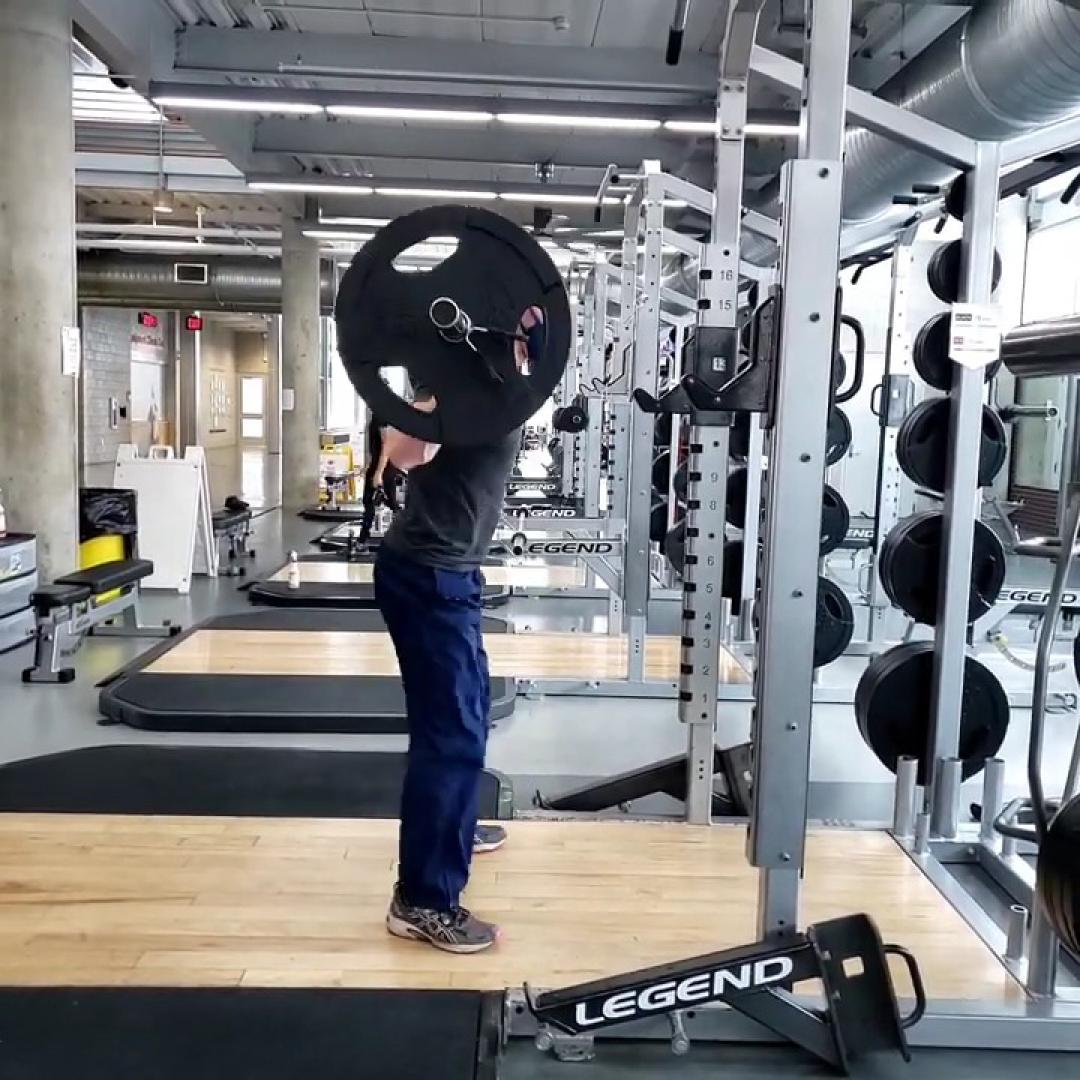Bar: (428, 295, 460, 328)
Barbell: (335, 206, 570, 446)
